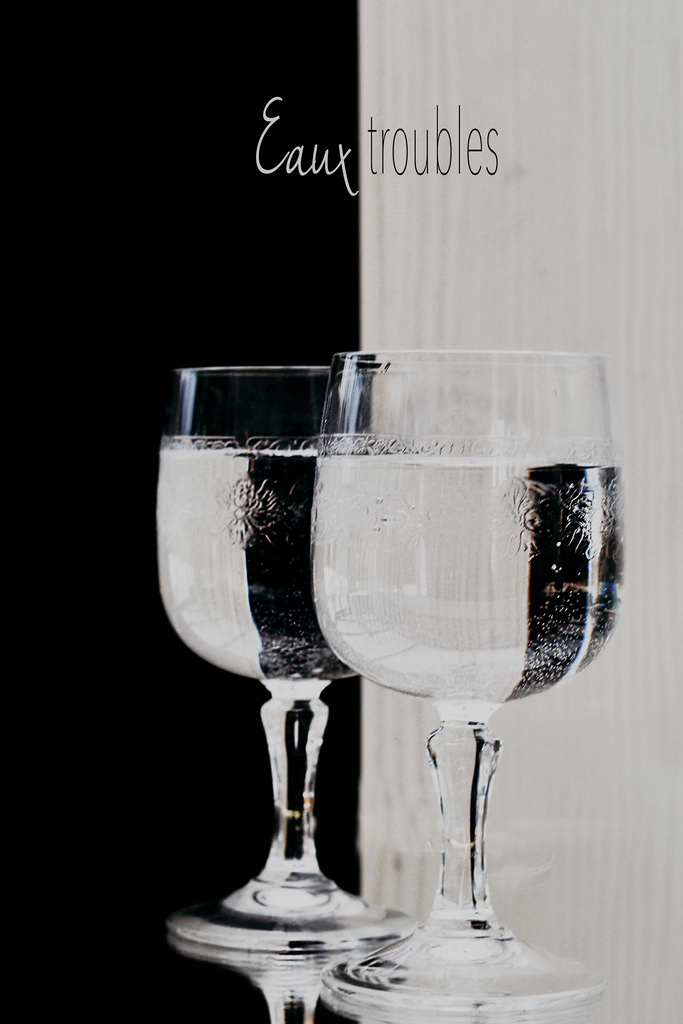glass of water: (339, 356, 566, 987), (173, 385, 342, 971)
